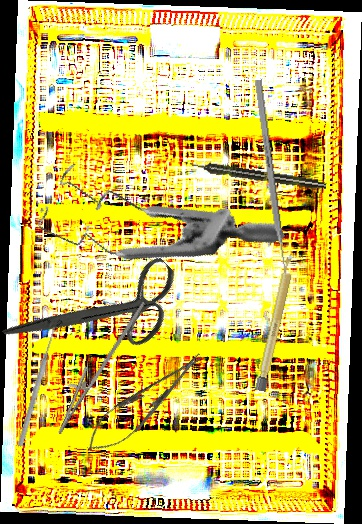Handpiece: (188, 158, 328, 192)
Iris Scissors: (1, 213, 196, 410)
Needle Holder: (77, 342, 213, 464), (46, 288, 147, 443)
Pusher: (253, 79, 291, 285), (16, 324, 59, 448)
Scalpel Handle: (254, 253, 298, 392)
Speculum: (21, 97, 286, 328)
